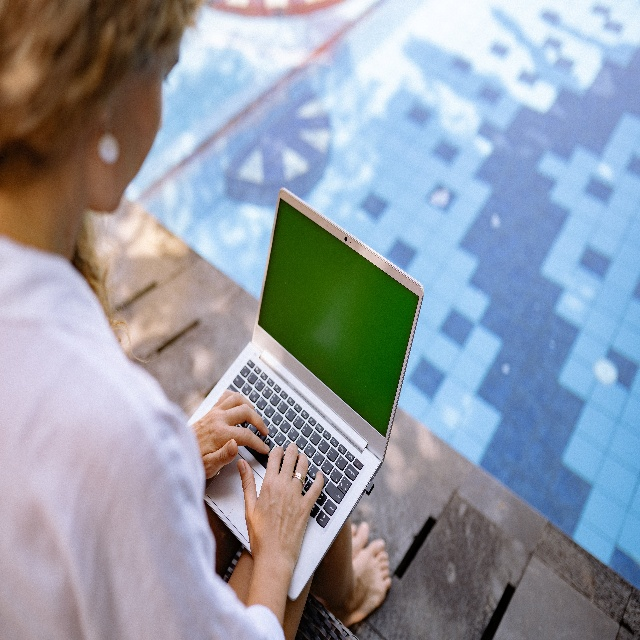Sin_guantes: (238, 443, 324, 582), (192, 387, 270, 479)
